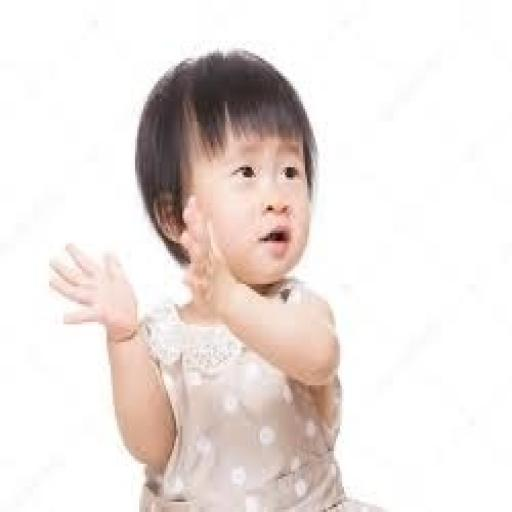clapping: (45, 46, 410, 510)
